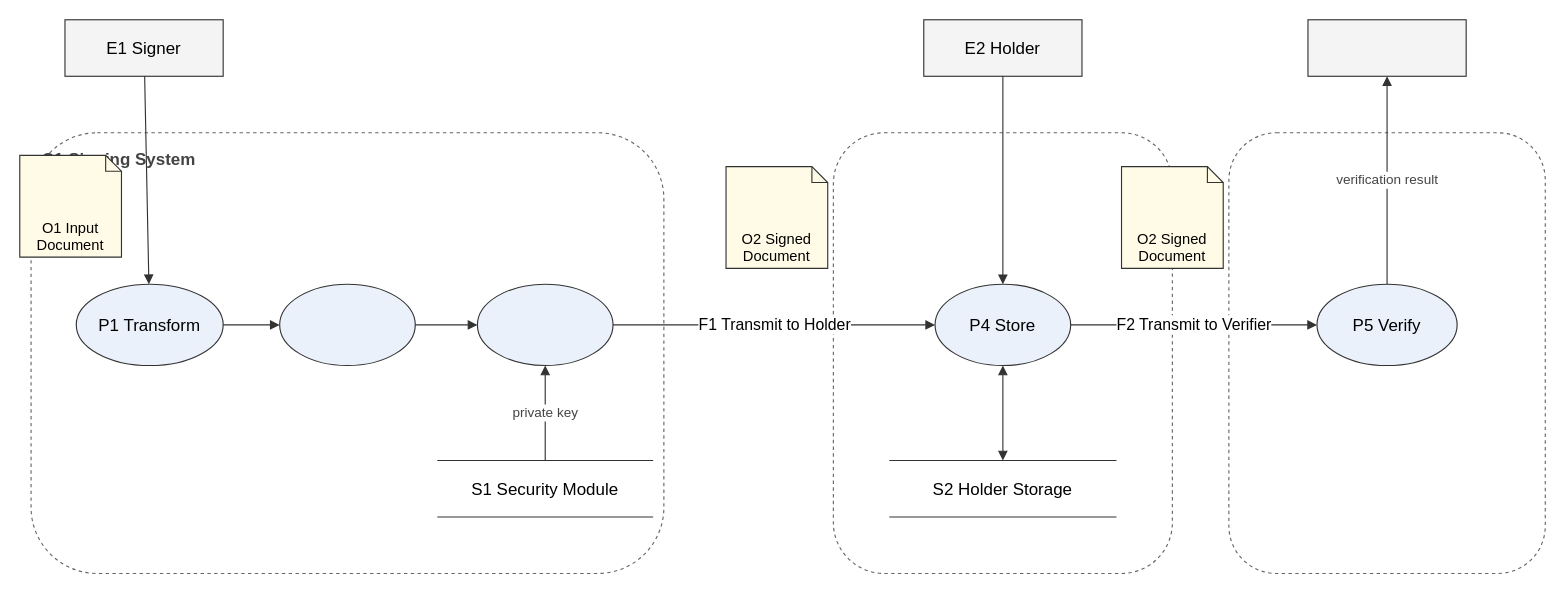
The diagram is 1565 pixels wide and 593 high, and some of its shapes have lost their labels. The shapes that lost their labels are listed below. From the top down, each one's box as (x1, y1, x2, y2) in pixels, then its label:
(1307, 19, 1466, 76): E3 Verifier
(279, 283, 415, 366): P2 Hash
(476, 283, 613, 366): P3 Sign
(832, 132, 1172, 573): C2 Holder System
(1228, 132, 1545, 573): C3 Verifier System
